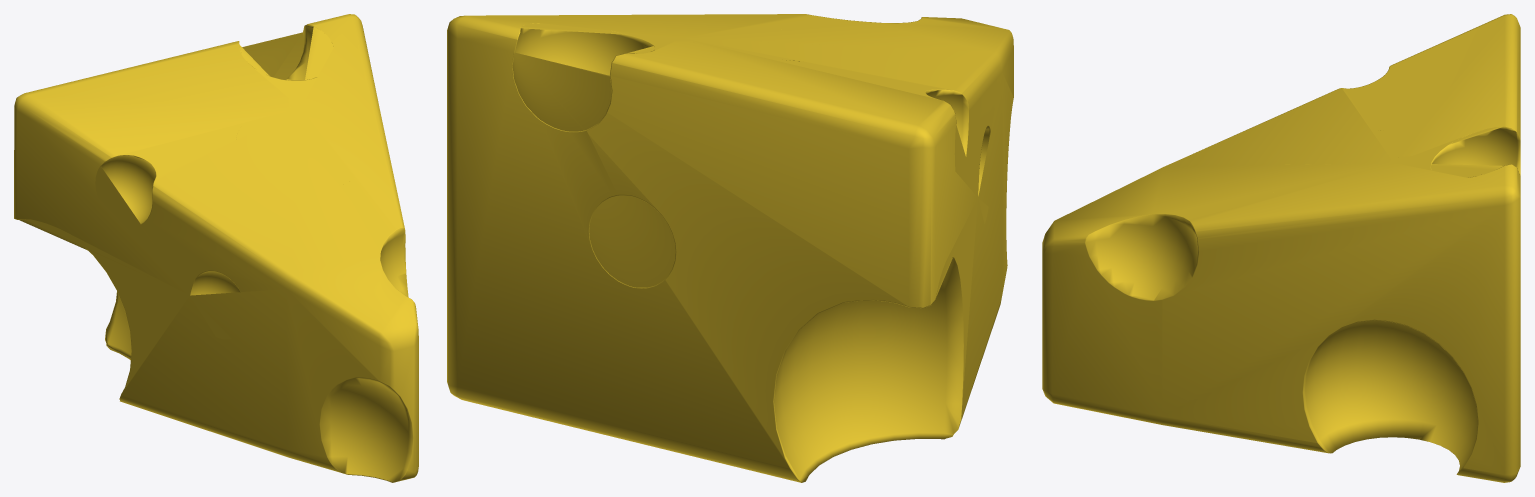
The model's file is cheese.fbx.
The picture shows the model from 3 angles, left to right: view 1: azimuth 30°, elevation 25°; view 2: azimuth 150°, elevation 25°; view 3: azimuth 270°, elevation 25°; orthographic projection. The views are drawn at different scales.
Parts seen in each view (by area): view 1: Cube; view 2: Cube; view 3: Cube.
Part boxes in pixels (x1,y1,x2,y2): Cube: (14,14,418,482); Cube: (447,14,1013,482); Cube: (1042,14,1520,482).
Size of the model in its own units: 129 by 97.98 by 143.
